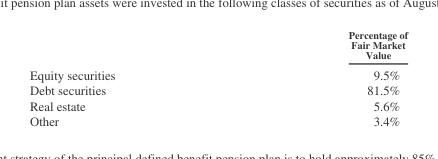table: (29, 28, 407, 127)
table column: (29, 28, 231, 127), (231, 28, 407, 127)
table column header: (29, 28, 407, 64)
table row: (29, 28, 407, 64), (29, 64, 407, 82), (29, 82, 407, 97), (29, 97, 407, 112), (29, 112, 407, 127)
